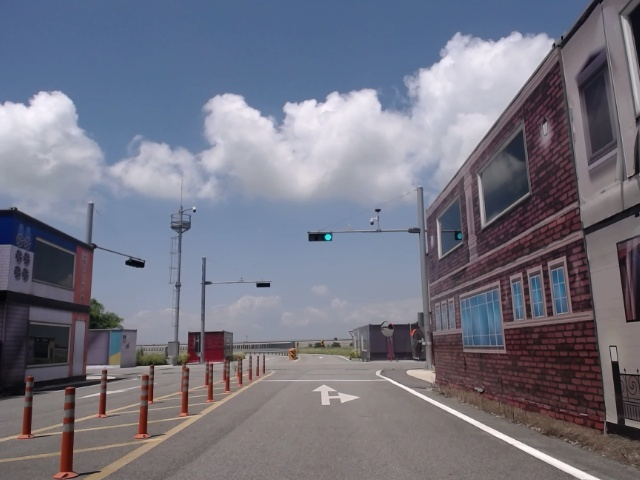green_3: (308, 232, 331, 241)
